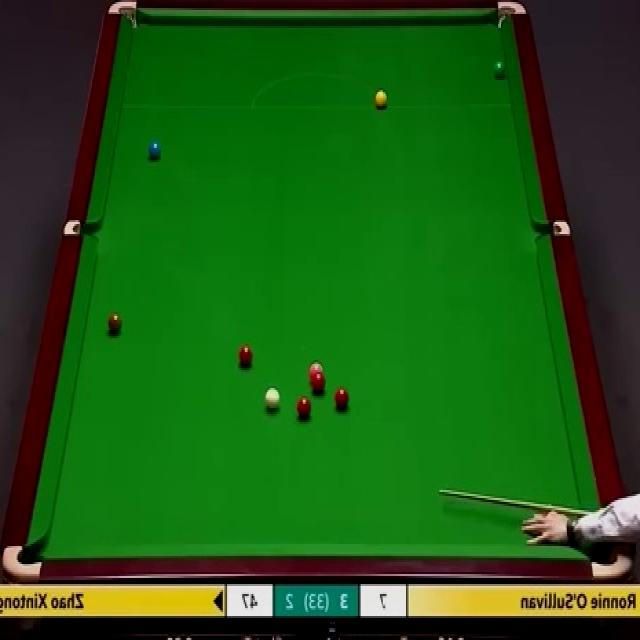pocket: (3, 542, 46, 580), (592, 545, 635, 577), (108, 0, 140, 32), (493, 0, 528, 29), (63, 218, 100, 237), (536, 218, 571, 238)
